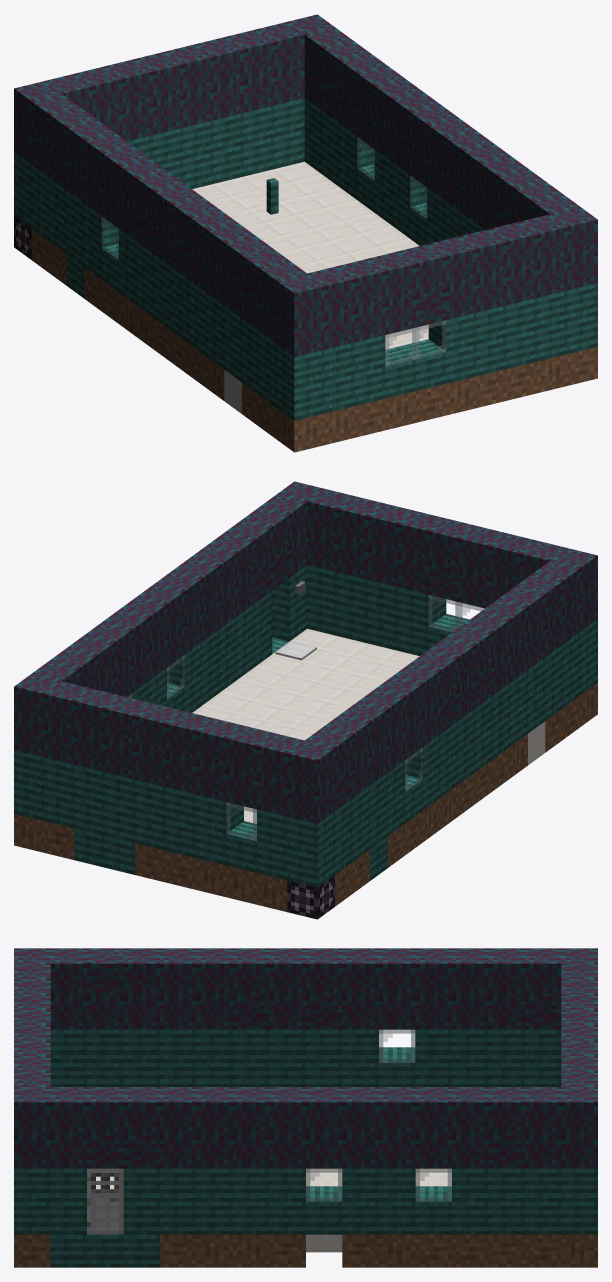
Rendered from Maquete_Theo Godoi Leite.glb.
3 renders of one model, top to bottom at view 1: azimuth 30°, elevation 25°; view 2: azimuth 150°, elevation 25°; view 3: azimuth 270°, elevation 25°, orthographic. The views are drawn at different scales.
Visible parts, largest first — view 1: node_3, node_5, node_1; view 2: node_3, node_5, node_1; view 3: node_3, node_5, node_2, node_1, node_4.
Part boxes in pixels (x1,y1,x2,y2): node_3: [75, 14, 597, 437]; node_5: [14, 73, 354, 452]; node_1: [357, 137, 446, 366]; node_3: [14, 481, 536, 904]; node_5: [257, 540, 597, 919]; node_1: [127, 595, 484, 840]; node_3: [14, 979, 597, 1267]; node_5: [14, 948, 597, 1086]; node_2: [87, 1168, 123, 1234]; node_1: [306, 1168, 451, 1201]; node_4: [379, 1029, 415, 1062].
Bounding box in the file's own units: 10 × 5 × 16.
Materials: 3 (3 with a texture image).
